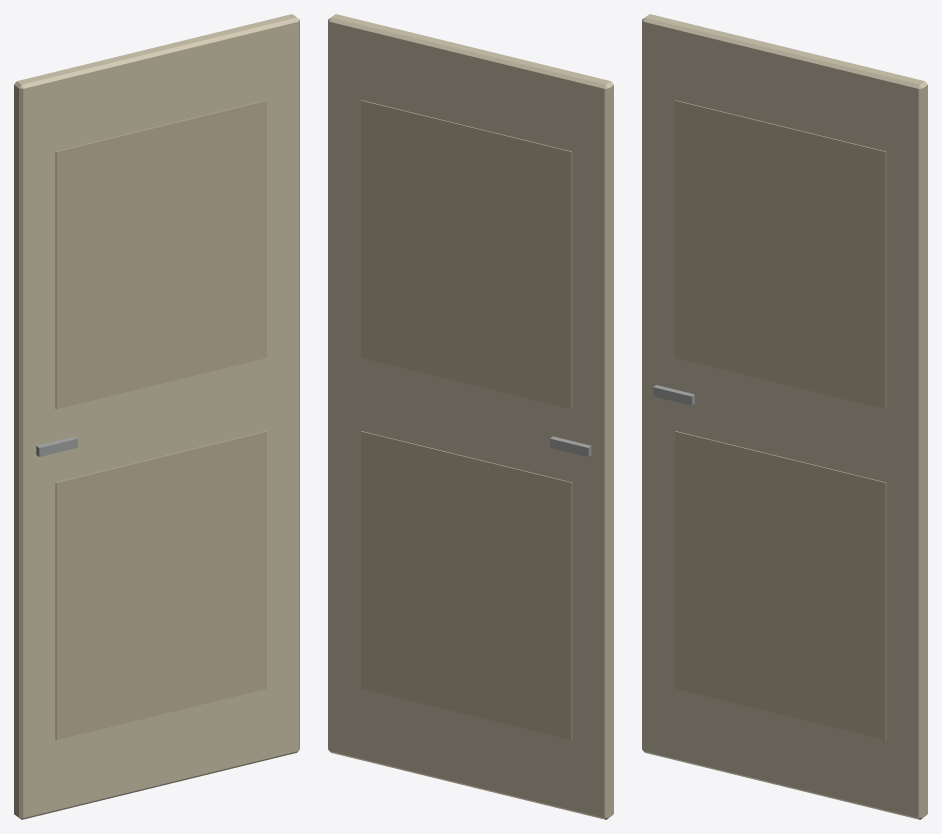
Rendered from door_wood.glb.
The picture shows the model from 3 angles, left to right: view 1: azimuth 30°, elevation 25°; view 2: azimuth 150°, elevation 25°; view 3: azimuth 330°, elevation 25°; orthographic projection.
Visible parts, largest first — view 1: anim_door_L; view 2: anim_door_L; view 3: anim_door_L.
Boxes of the visible parts, x1,y1,x2,y2 form: anim_door_L: (14,14,299,819); anim_door_L: (328,14,613,819); anim_door_L: (642,14,927,819).
Bounding box in the file's own units: 0.8 × 2 × 0.07.
